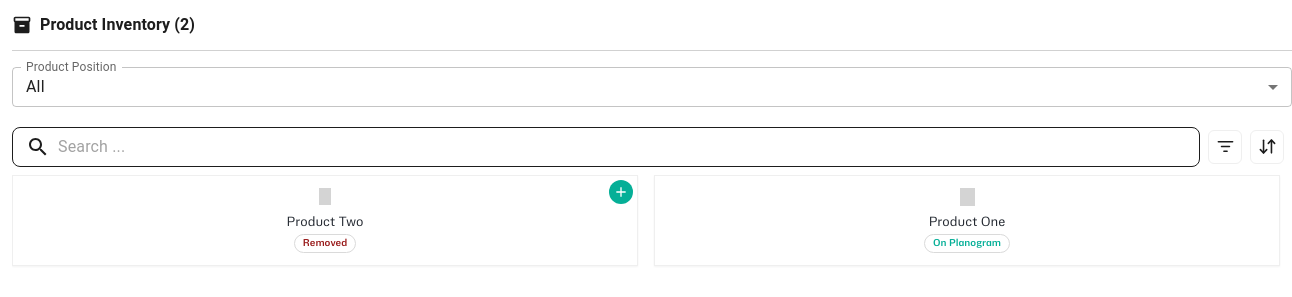
ProductInventory › filters the product inventory list when selecting Removed position
Press the mouse on the dropdown named "Product Position" at (35, 87), box x1=26 y1=77 x2=45 y2=96
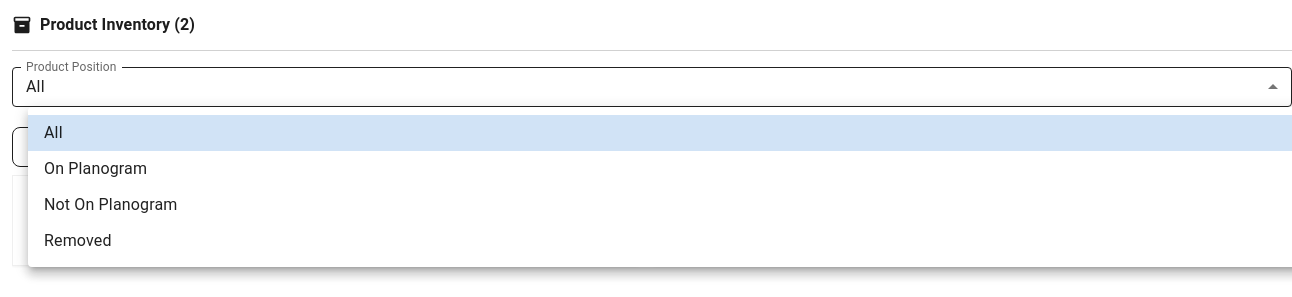
Click the option "Removed" at (78, 240), box x1=44 y1=231 x2=112 y2=250
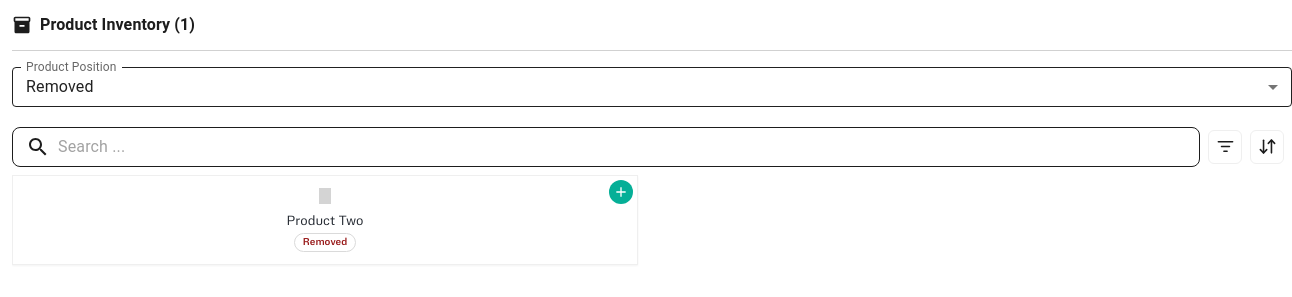
Check: the heading "Product Inventory (1)" is shown, box x1=40 y1=12 x2=195 y2=38
